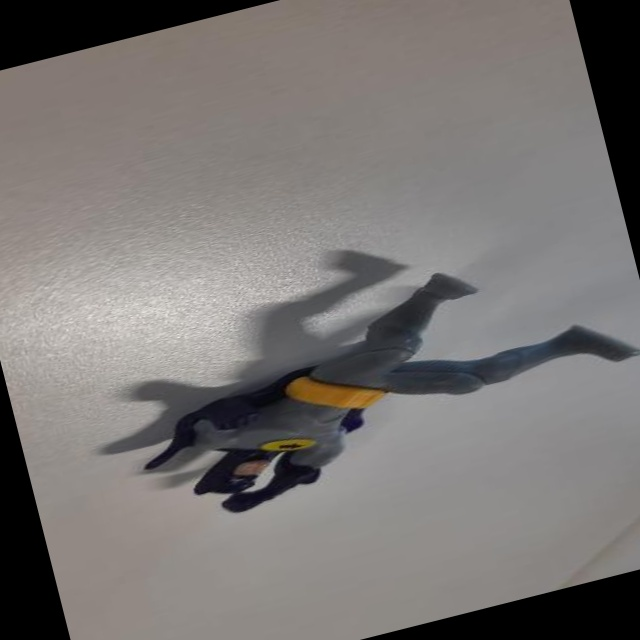Batman: (119, 233, 640, 531)
